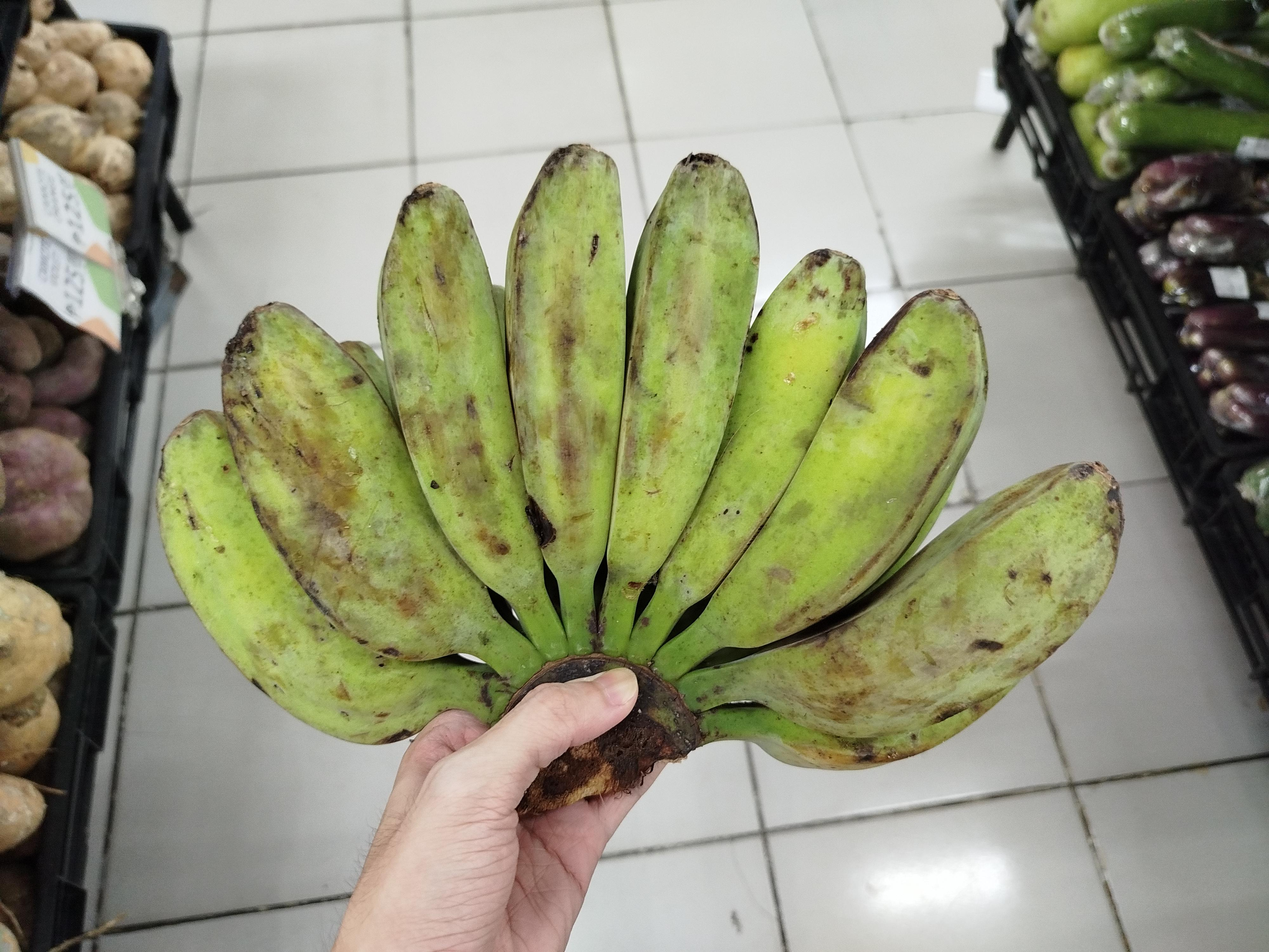underripe: (159, 145, 1122, 769)
